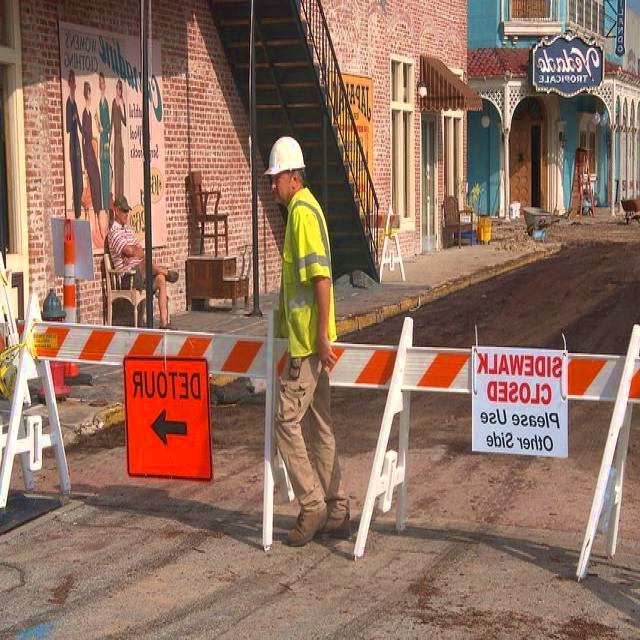Con_Casco: (266, 137, 305, 199)
Con_Chaleco: (279, 196, 335, 360)
